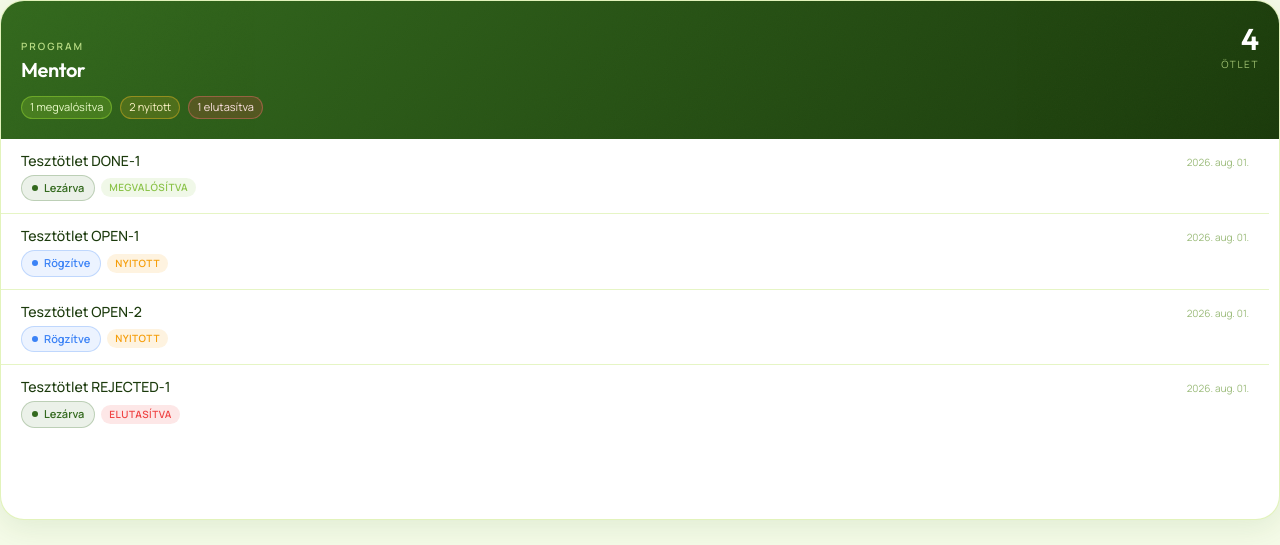
ProgramCard › status chips filter the card and can be toggled off
The width and height of the screenshot is (1280, 545).
What coordinates should you click on to do the following:
click the button with test id "program-chip-Mentor-Megvalósítva"
I would click on:
 (67, 107)
Its box is [21,96,112,118].
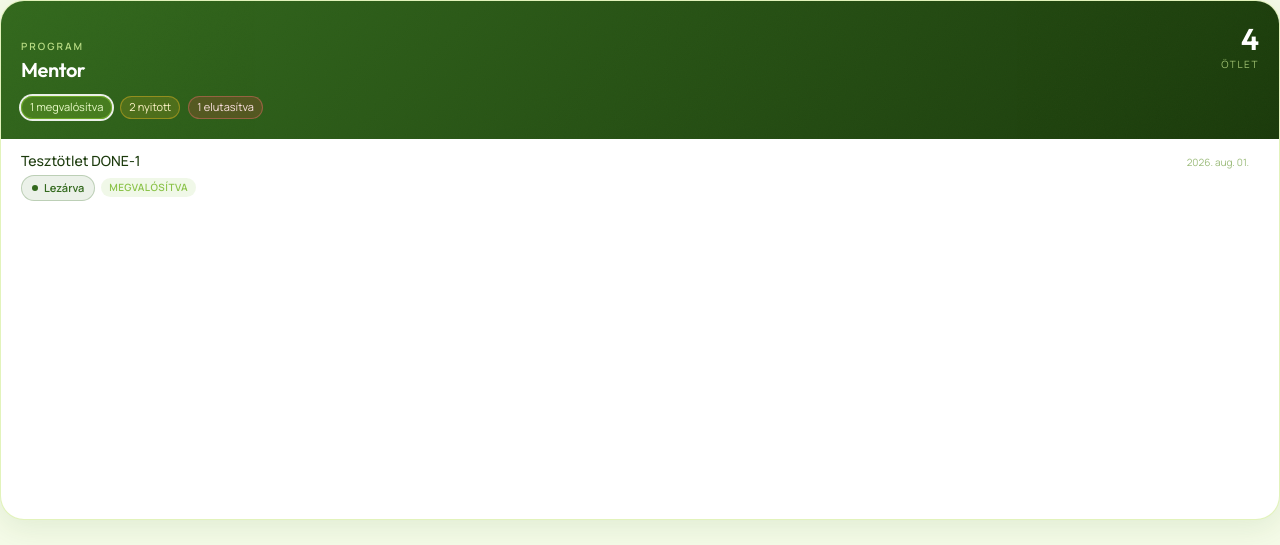
Check: the list item with test id "program-item-" is shown, box [1,138,1269,213]
Check: the button with test id "program-chip-Mentor-Megvalósítva" is pressed
What coordinates should you click on to do the following:
click the button with test id "program-chip-Mentor-Megvalósítva"
I would click on:
 (67, 107)
Its box is [21,96,112,118].
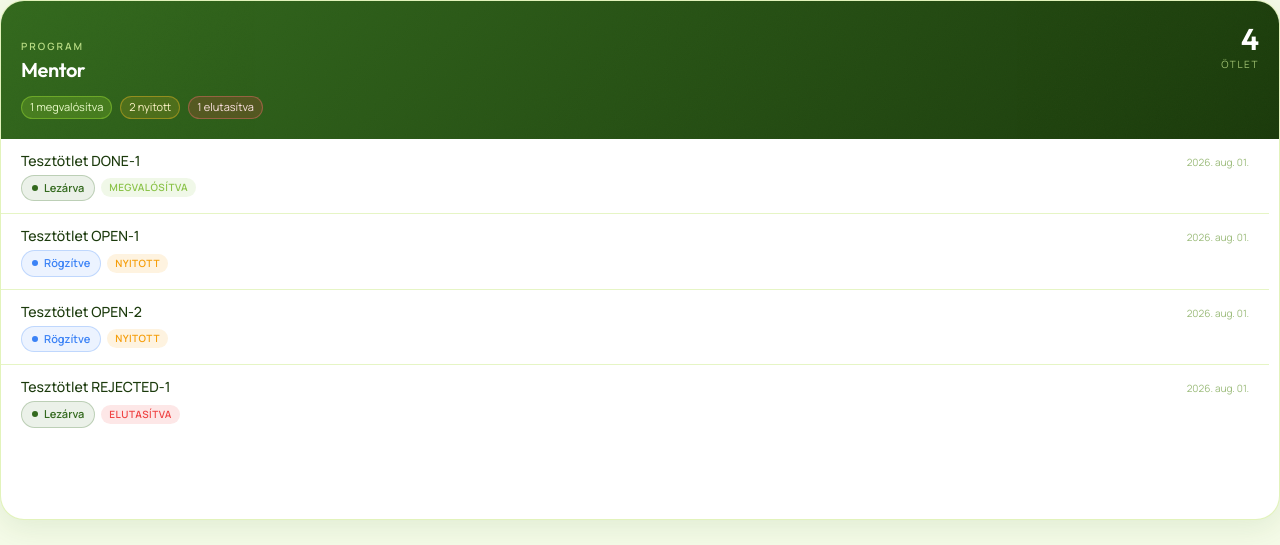
Check: the button with test id "program-chip-Mentor-Megvalósítva" is not pressed, box [21,96,112,118]
